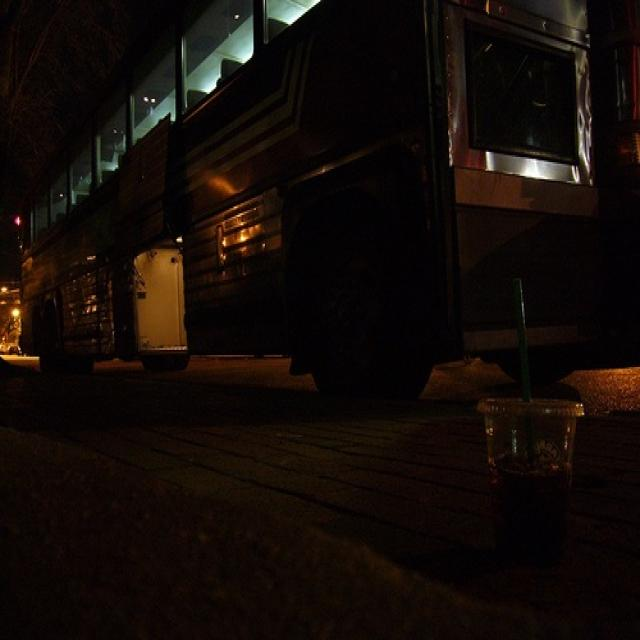bus: (18, 0, 604, 399)
